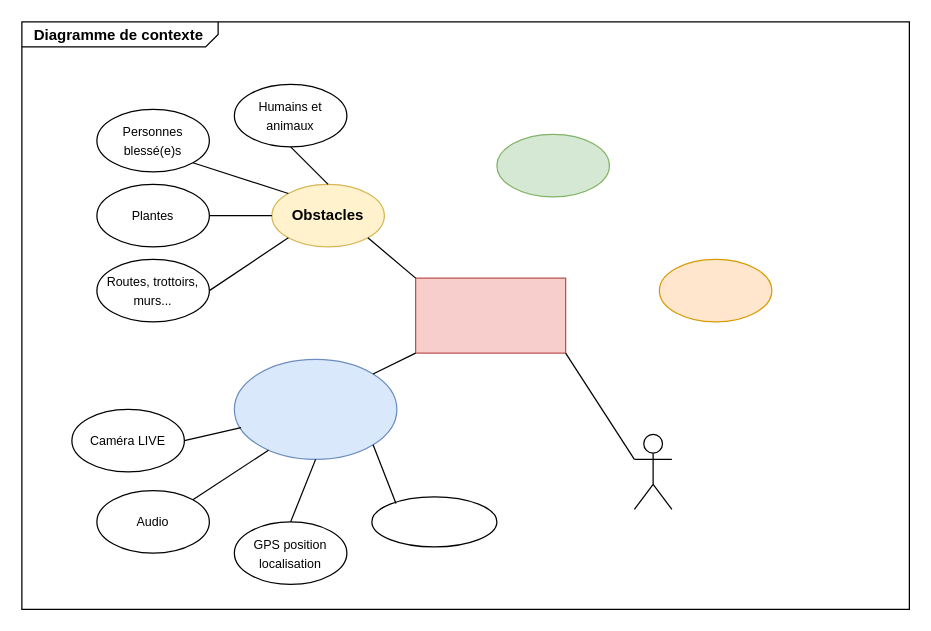
The diagram is 931 pixels wide and 631 high, and some of its shapes have lost their labels. Each missing label, with the box of its shape:
Pilote: (633, 433, 672, 509)
Piloter le Snakebot: (371, 496, 497, 547)
Snakebot: (414, 277, 566, 353)
Utilisateur + Smartphone (grâce à App Inventor ): (233, 358, 397, 459)
